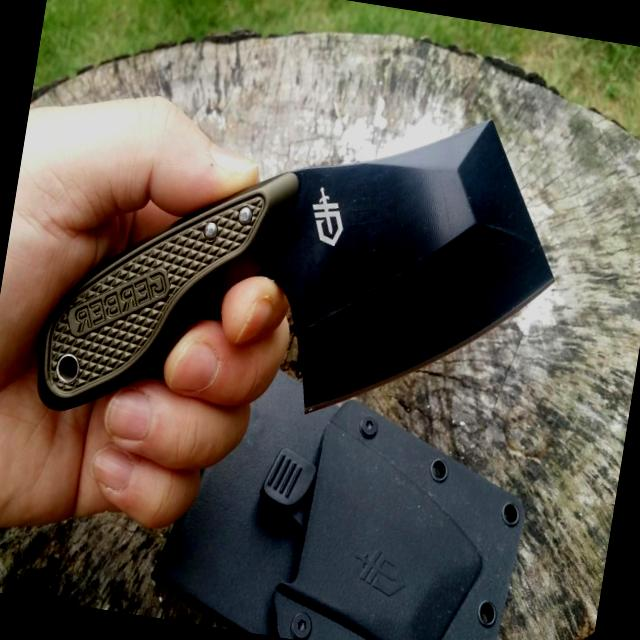cleaver: (23, 55, 581, 477)
